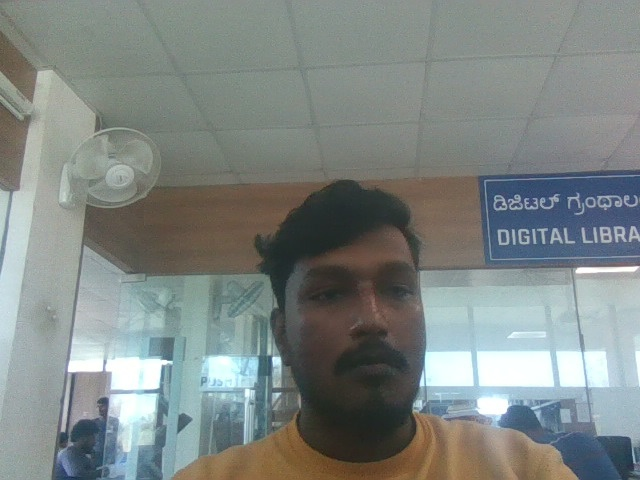real: (263, 166, 451, 432)
